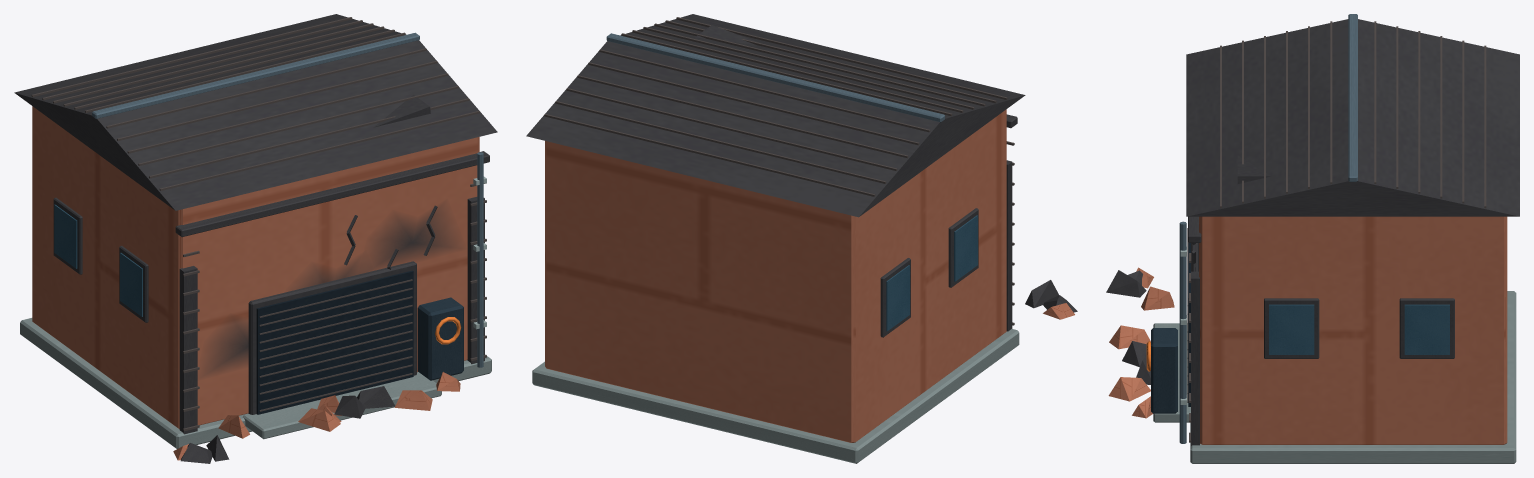
Rendered from workshop-burning.glb.
3 views of the same model, side by side, from view 1: azimuth 30°, elevation 25°; view 2: azimuth 150°, elevation 25°; view 3: azimuth 270°, elevation 25° (orthographic). The views are drawn at different scales.
Parts seen in each view (by area): view 1: workshop-burning; view 2: workshop-burning; view 3: workshop-burning.
Boxes of the visible parts, x1,y1,x2,y2 form: workshop-burning: (14, 14, 497, 463); workshop-burning: (526, 14, 1077, 463); workshop-burning: (1106, 14, 1519, 463).
Size of the model in its own units: 6.56 by 5.09 by 6.58.
3 materials, 3 textured.
